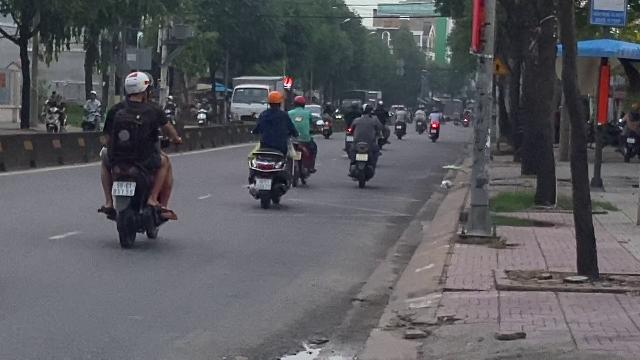helmet: (121, 71, 151, 101), (265, 90, 283, 108)
licenseplate: (112, 181, 134, 195), (256, 178, 270, 189)
motorcyclist: (93, 69, 179, 249), (244, 88, 296, 207)
